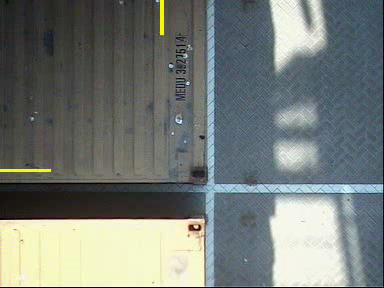groundmarker_2: (148, 183, 220, 221), (177, 1, 203, 41)
